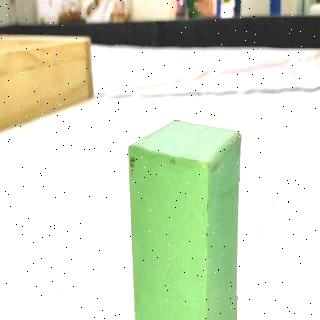greenbox: (124, 117, 243, 320)
